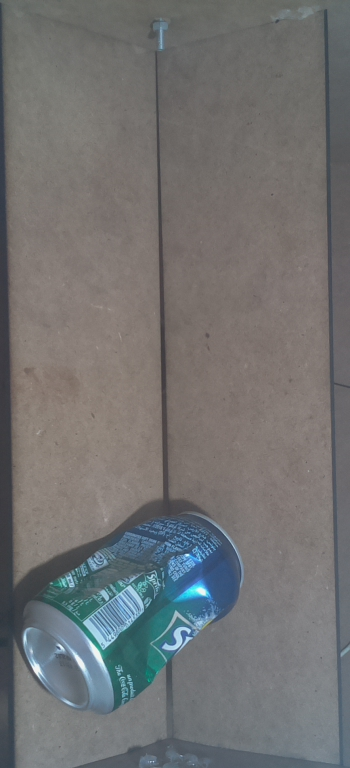Canette: (13, 496, 256, 720)
